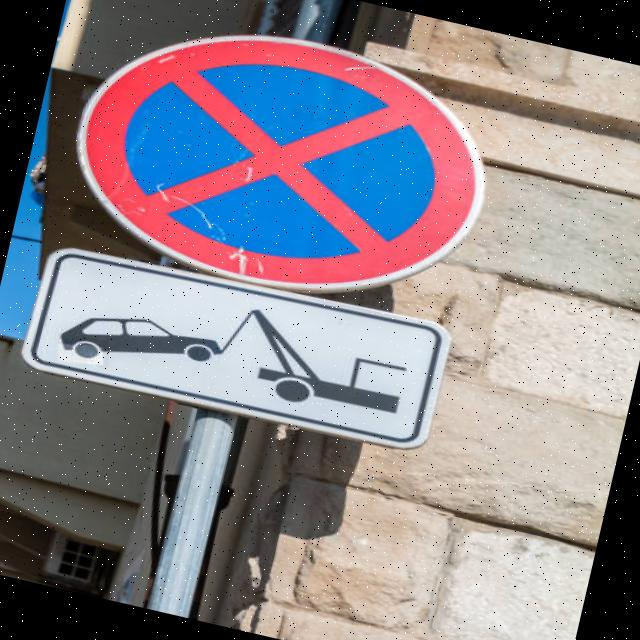no_parking: (43, 0, 528, 334)
